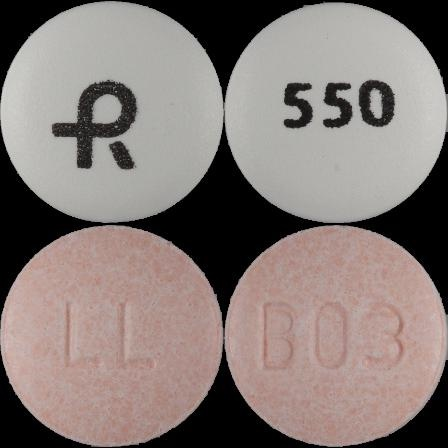43063-467: (0, 0, 224, 224)
